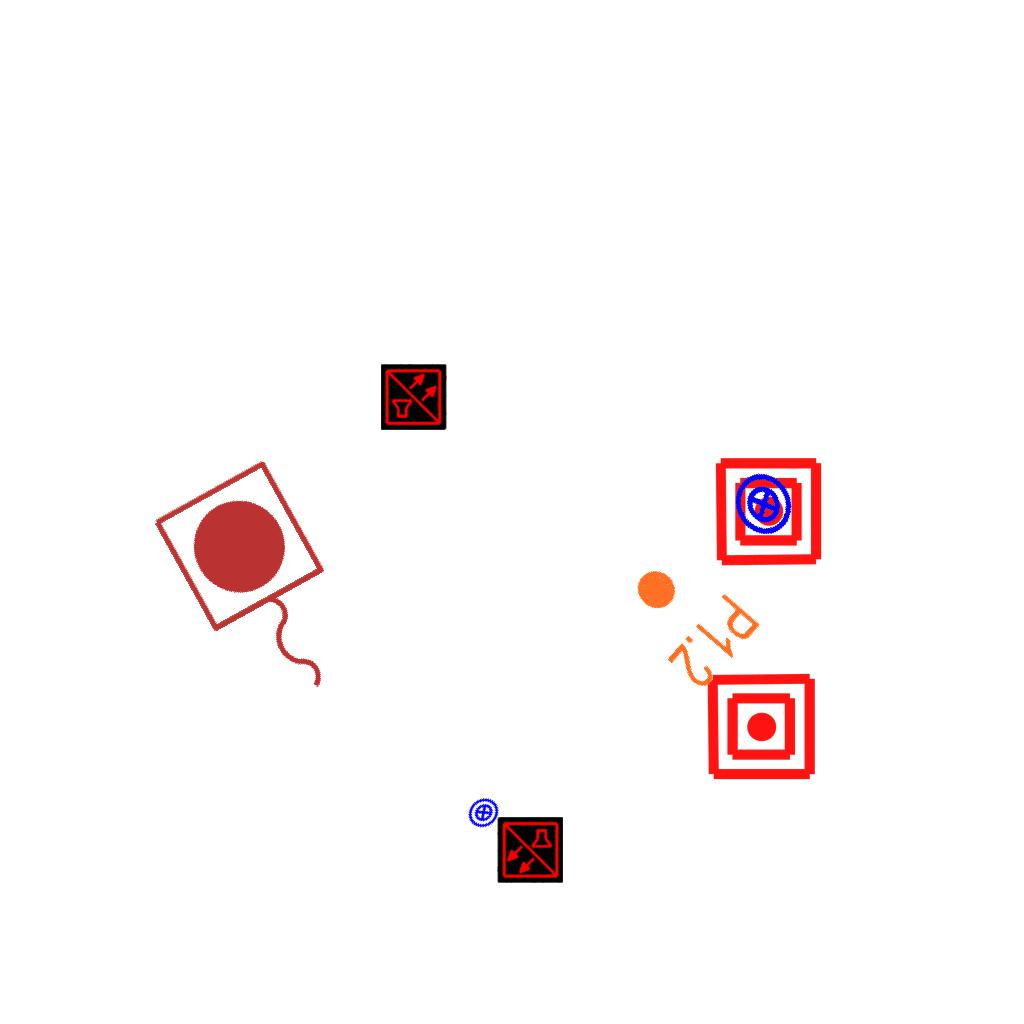Downlight_LED_Einbauleuchten_Flur: (607, 540, 766, 696)
NAM-Nichtautomatischer_Melder: (705, 670, 818, 783), (712, 455, 825, 568)
OKW_Multisensormelder_(Kombination_optischer_Rauch-Kahlenmonoxid_Waerme-Melder): (497, 817, 563, 883), (381, 364, 447, 430)
Taster_beleuchtet: (720, 460, 808, 548), (460, 789, 507, 836)
Zugtaster: (139, 449, 385, 733)
